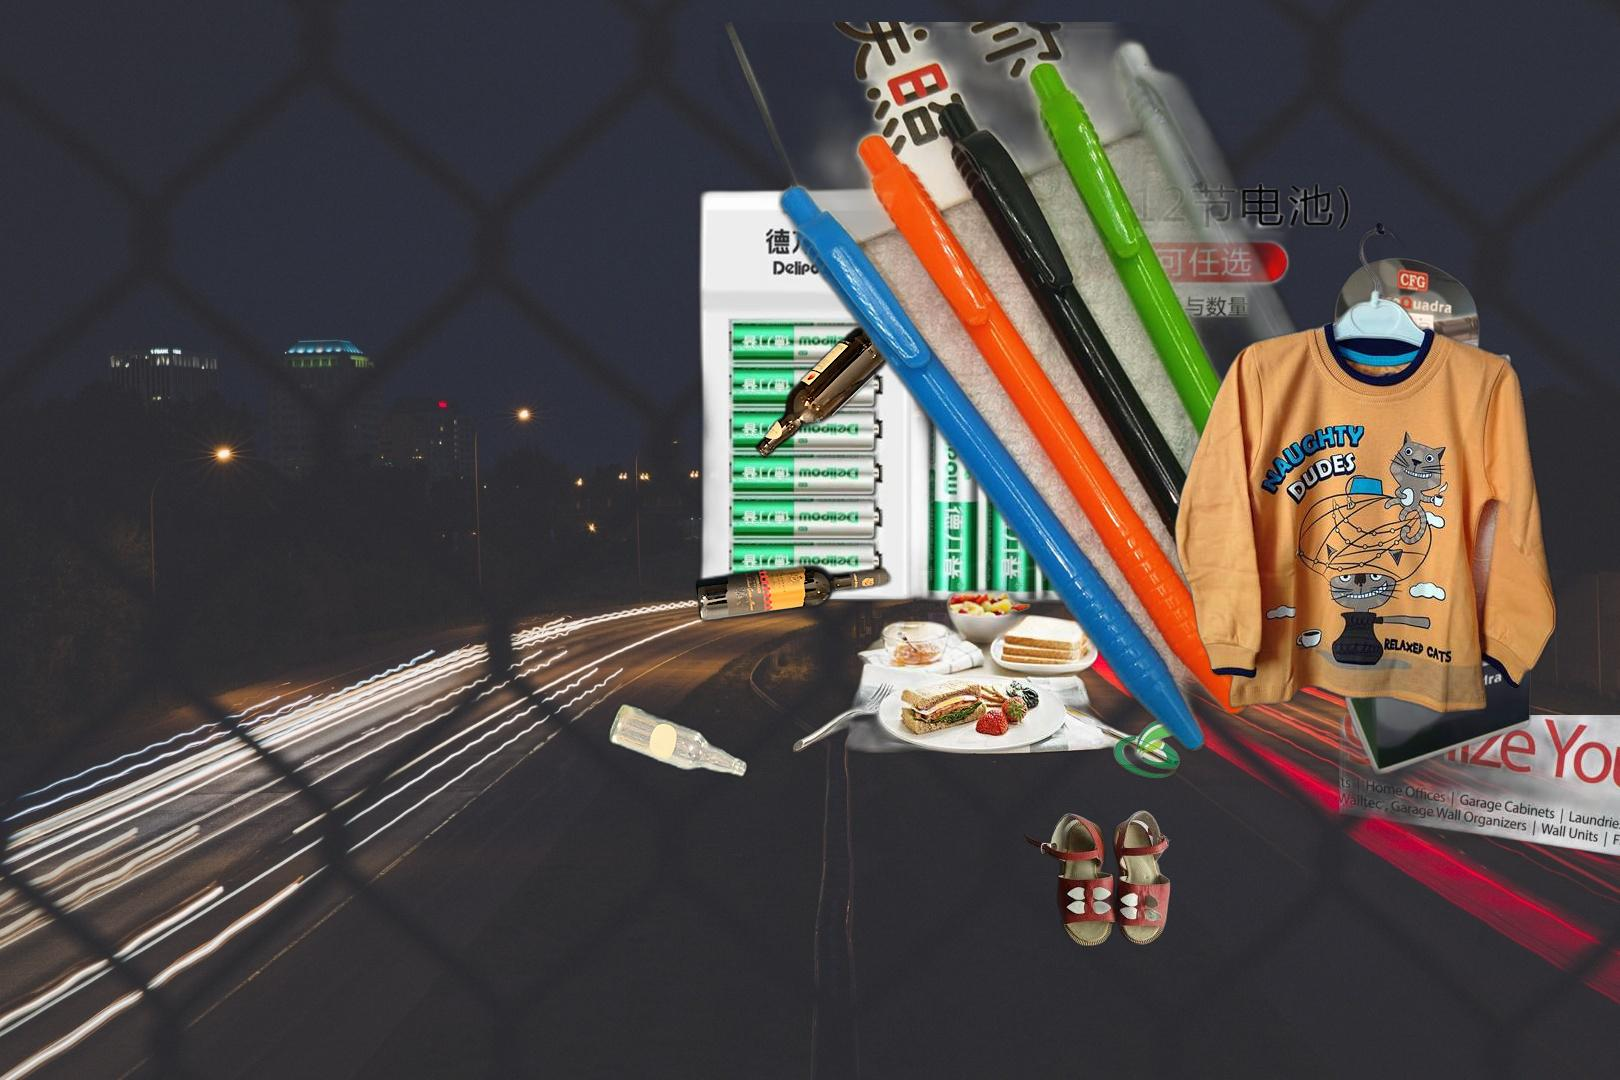battery: (689, 118, 1383, 611)
biological: (752, 583, 1202, 782)
clothes: (1172, 221, 1560, 718)
glass: (605, 319, 896, 783)
paper: (1339, 715, 1620, 1080)
penholder: (716, 22, 1448, 758)
shoes: (1020, 808, 1174, 949)
trashbox-cardboard: (1328, 253, 1538, 779)
